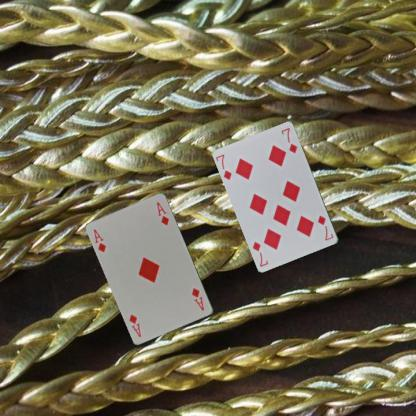7d: (214, 152, 233, 181), (316, 213, 334, 242)
Ad: (189, 285, 206, 312), (92, 226, 108, 254)
